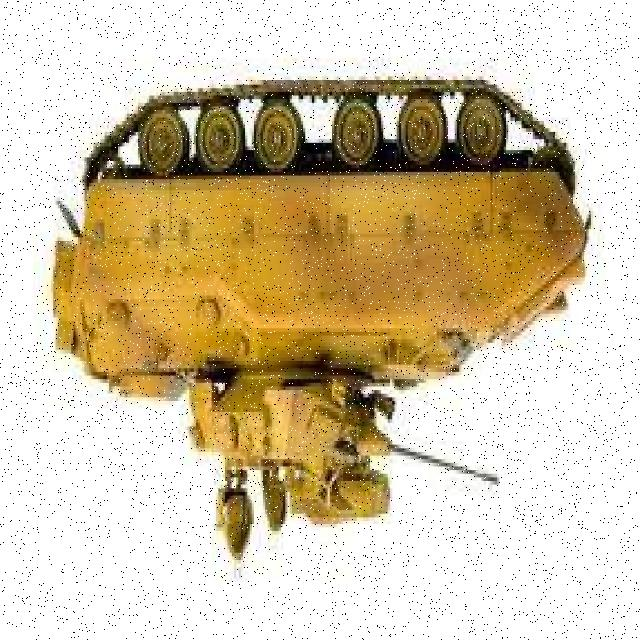MIL_MBT: (49, 81, 584, 524)
